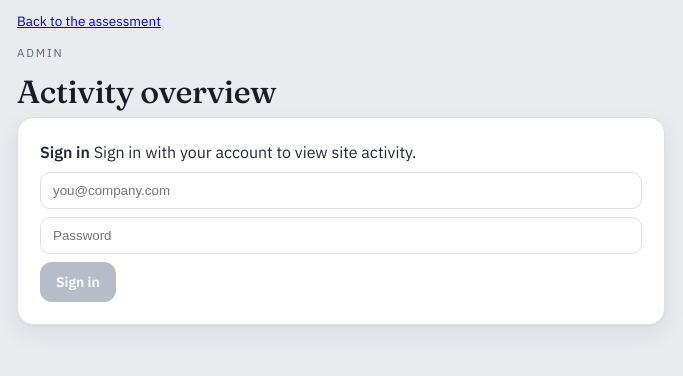
AdminApp › shows an error when sign-in fails
This screenshot has width=683, height=376.
Type "a@x.com" into the field with placeholder "you@company.com" at (341, 191), box [40, 172, 642, 209]
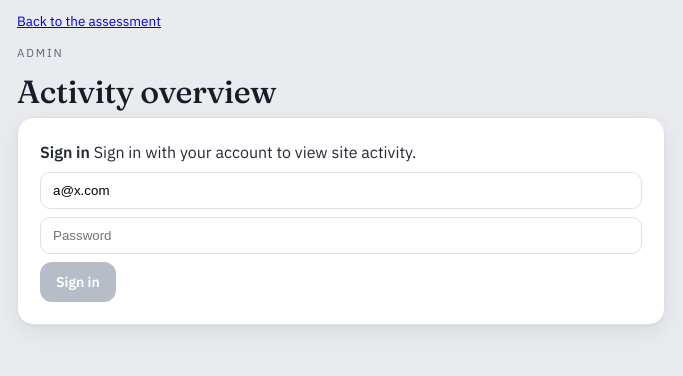
Type "secret123" into the password field with placeholder "Password" at (341, 236), box [40, 217, 642, 254]
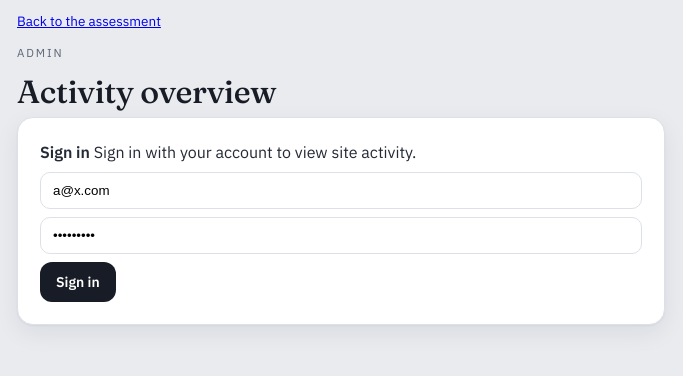
Click the button "Sign in" at (78, 282), box [40, 262, 116, 302]
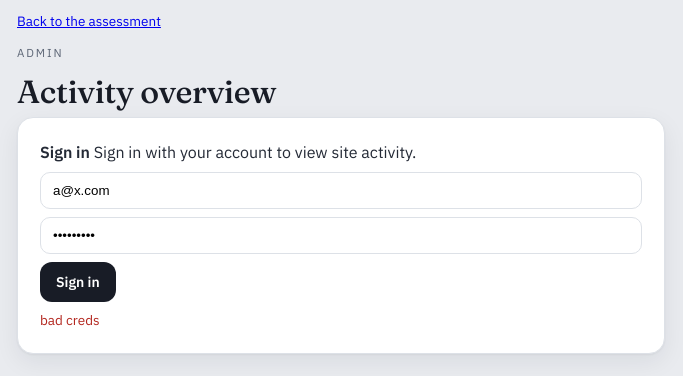
Now the text "bad creds" is shown, box [40, 311, 100, 329]
